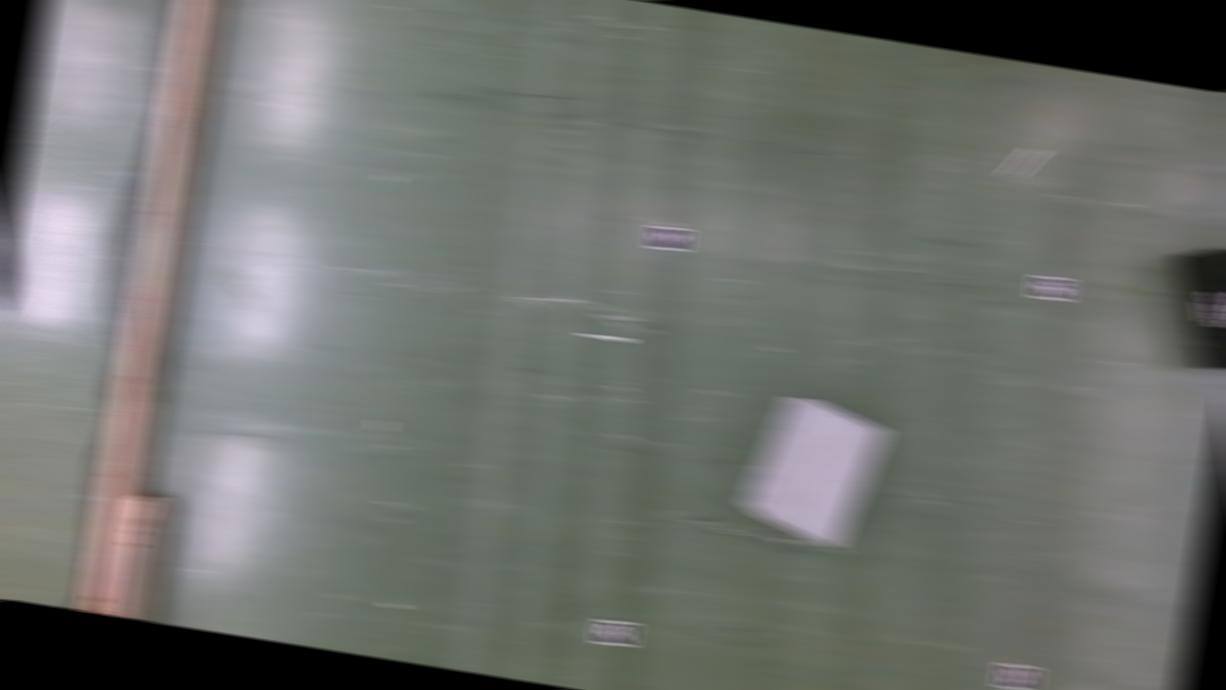probes: (570, 324, 635, 344), (1006, 144, 1042, 179)
rako: (736, 387, 892, 551), (1155, 230, 1226, 372)
